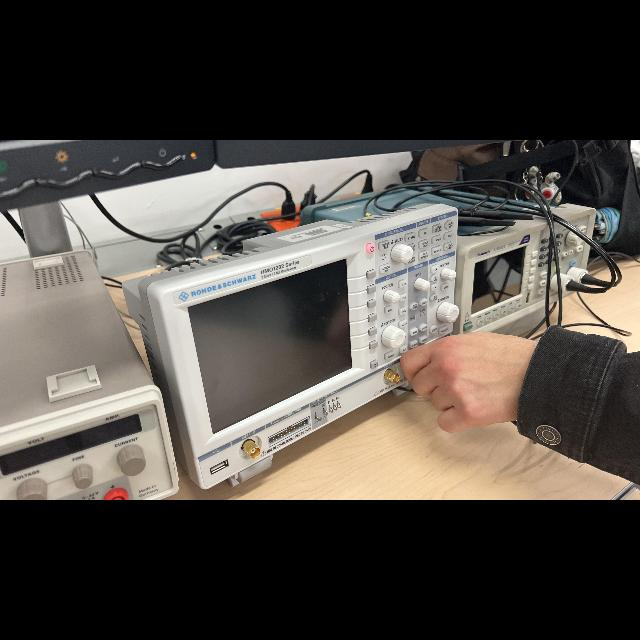Digital-Oscilloscope: (123, 204, 458, 489)
